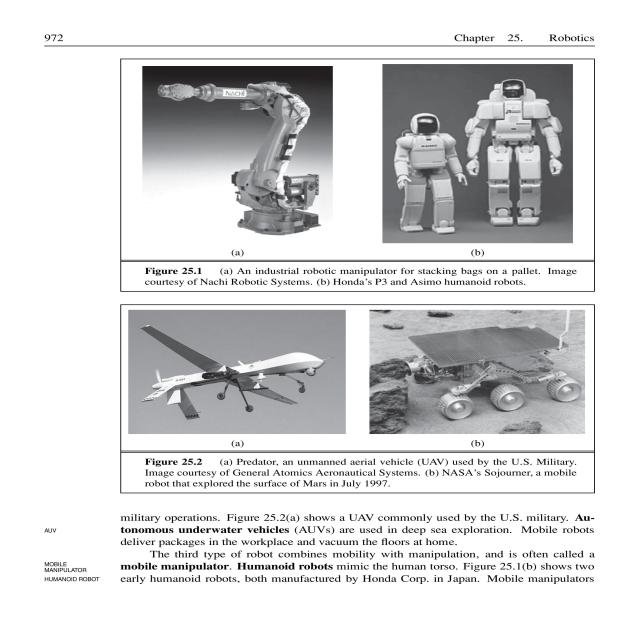diagram: (121, 55, 602, 287), (124, 308, 602, 497)
